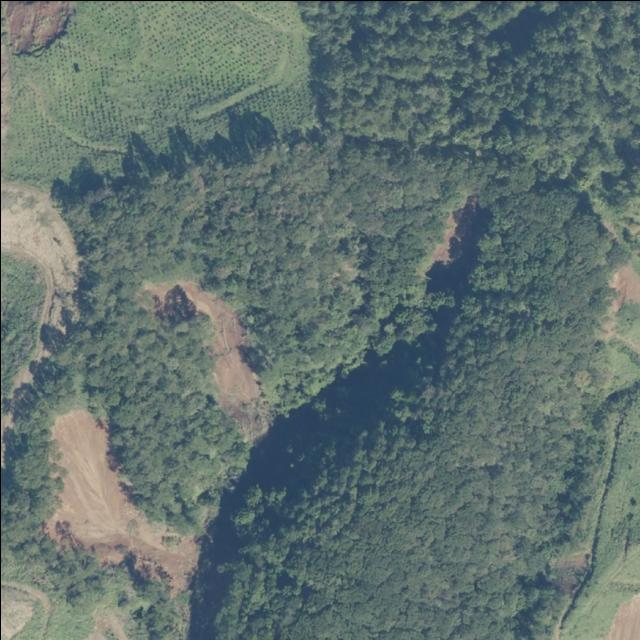landslide: (45, 408, 198, 595), (141, 281, 270, 443), (0, 180, 78, 330)
